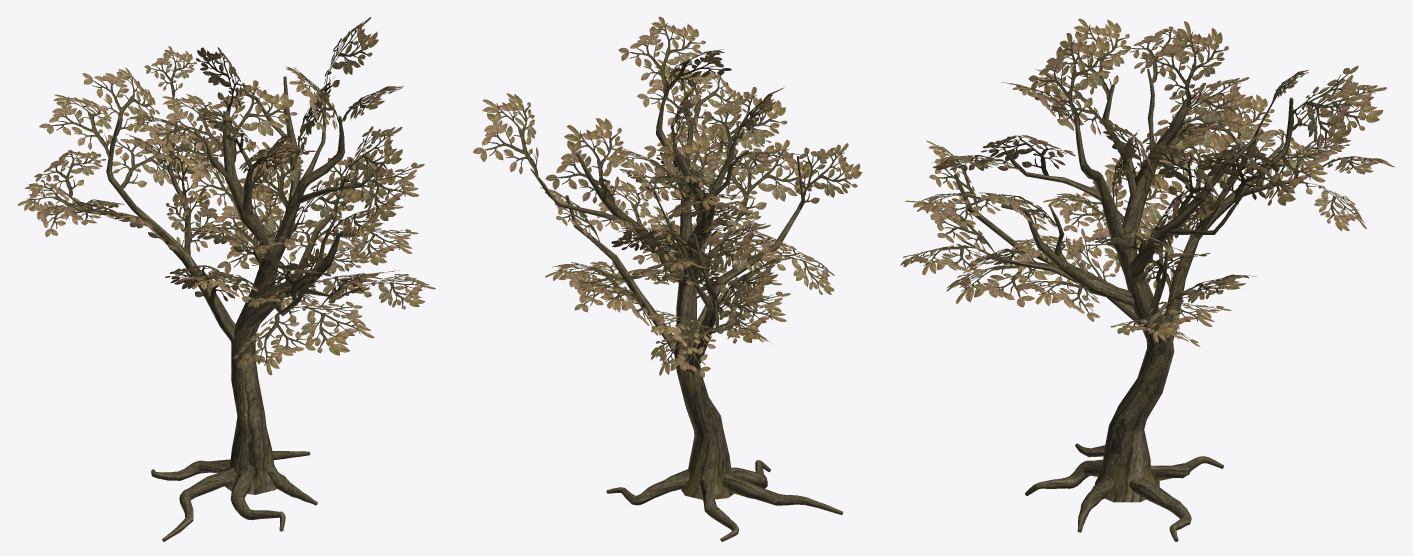
Rendered from tree_02.glb.
3 views of the same model, side by side, from view 1: azimuth 30°, elevation 25°; view 2: azimuth 150°, elevation 25°; view 3: azimuth 270°, elevation 25° (orthographic). The views are drawn at different scales.
Parts seen in each view (by area): view 1: leaves, tree; view 2: leaves, tree; view 3: leaves, tree.
Boxes of the visible parts, x1=… form: leaves: x1=18, y1=17, x2=435, y2=375; tree: x1=60, y1=76, x2=389, y2=541; leaves: x1=473, y1=16, x2=862, y2=377; tree: x1=530, y1=88, x2=843, y2=541; leaves: x1=900, y1=18, x2=1394, y2=346; tree: x1=954, y1=68, x2=1334, y2=541.
Size of the model in its own units: 439 by 564 by 526.
2 materials, 2 textured.
